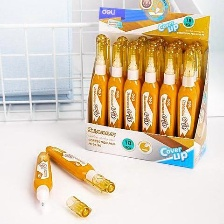book: (82, 0, 212, 170)
correction_fluid: (41, 143, 116, 195), (139, 43, 161, 159), (176, 49, 198, 162), (157, 46, 178, 160), (122, 42, 142, 157), (89, 38, 109, 148), (107, 40, 125, 152), (30, 150, 55, 208)
